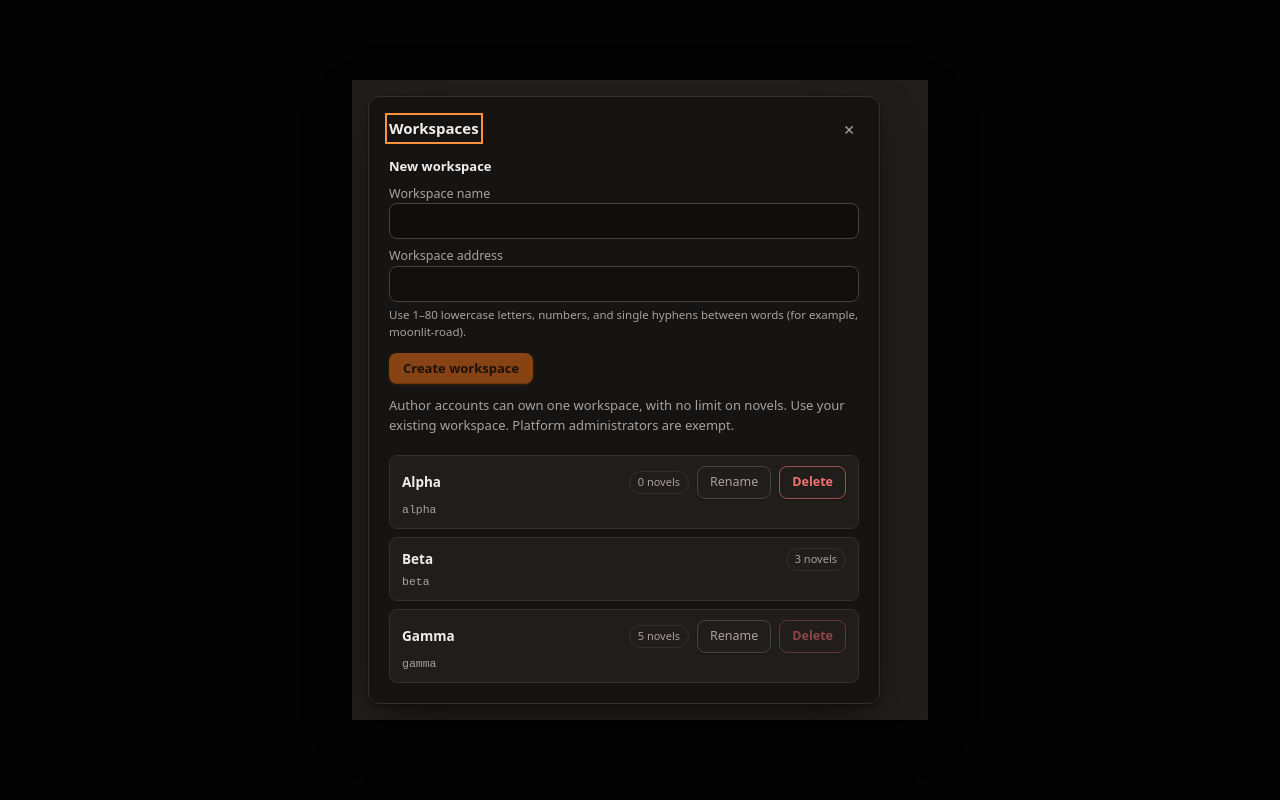
Test case: workspace manager dialog › offers a read retry after deletion succeeds but the refreshed policy is unavailable
Click the button with test id "ws-delete-alpha". click: (813, 482)
box: [779,466,846,499]
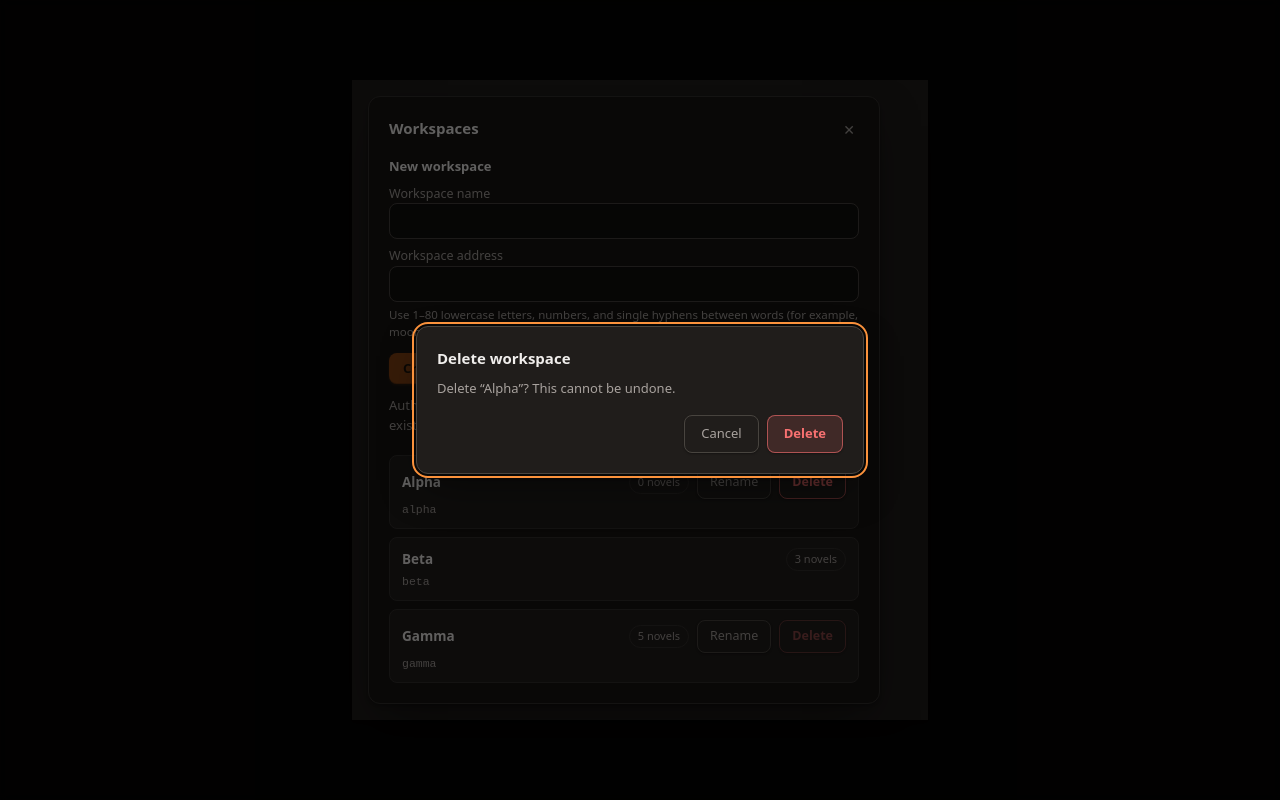
Click the button with test id "confirm-ok". click: (805, 434)
box: [767,415,843,453]
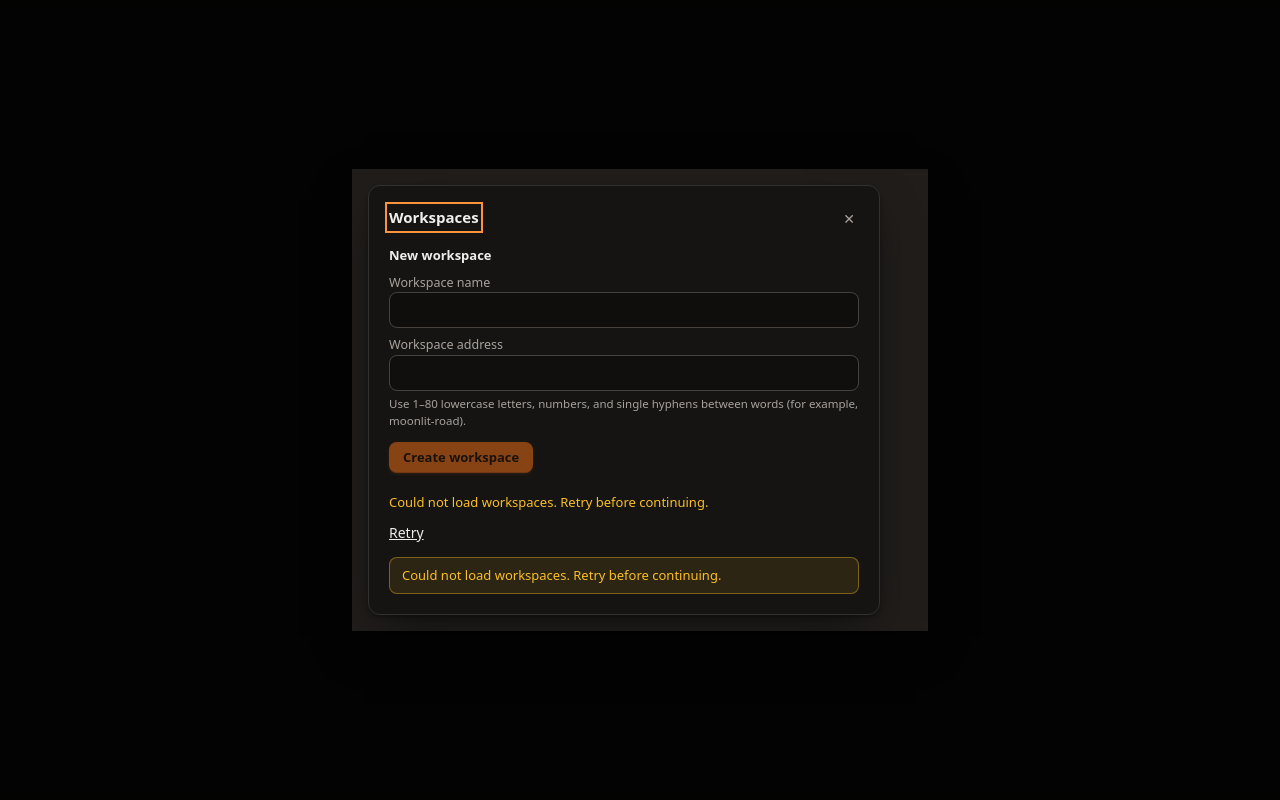
Click the button "Retry". click: (406, 532)
box: [389,520,424,544]
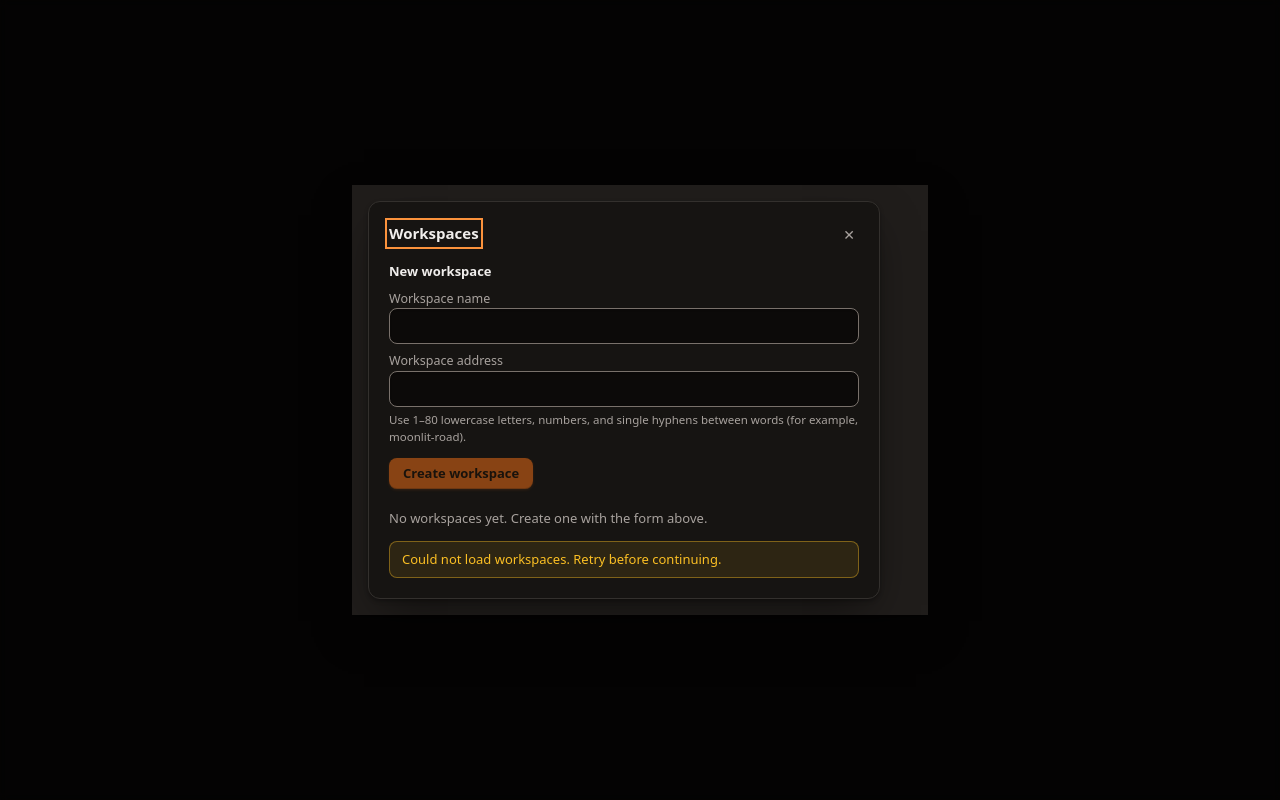
expect the element that starts with "New workspace" is enabled: met, box [389,262,859,489]
